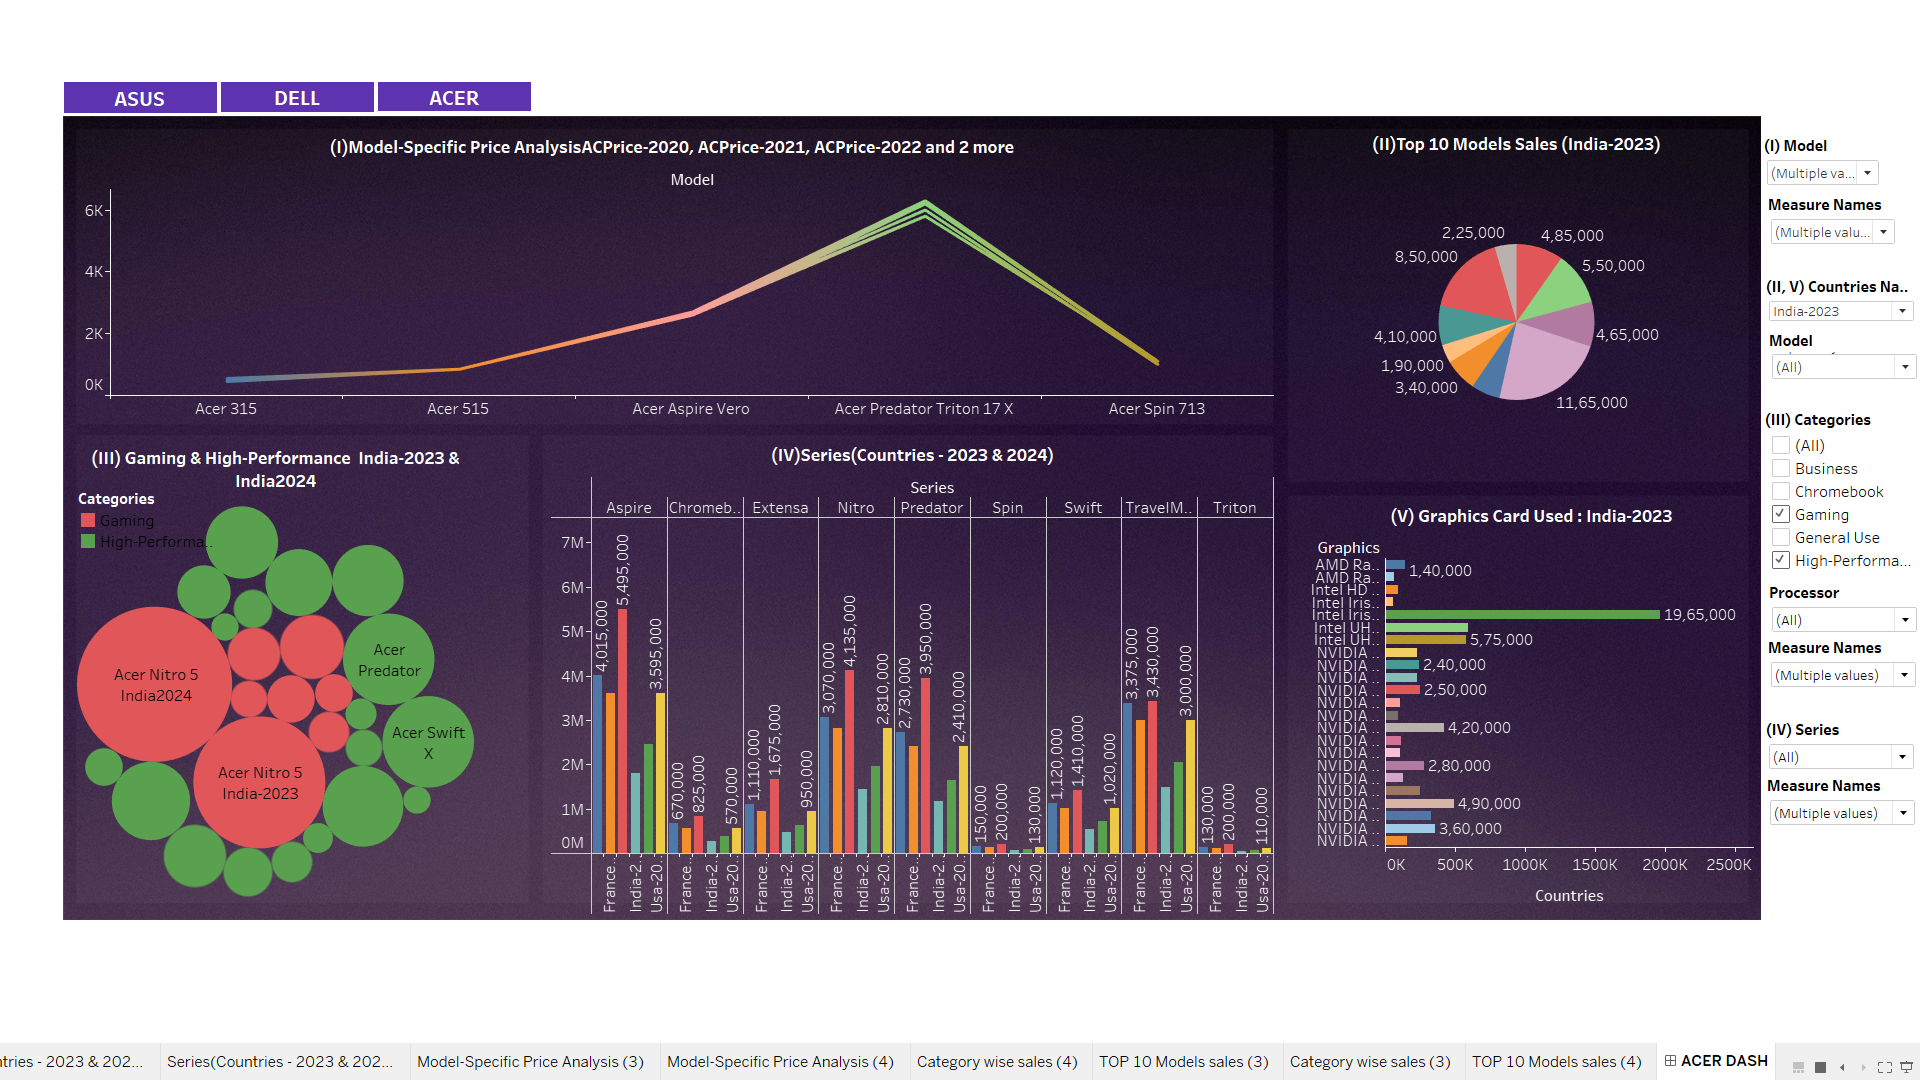

Layout of this report page (visuals, bound fields, positions):
{"tool":"tableau","page":{"name":"ACER DASH","canvas":[1800,900],"ordinal":0},"visuals":[{"type":"dashboard-object","box":[2.8,10,155.4,33]},{"type":"dashboard-object","box":[160.1,10,155.4,32]},{"type":"dashboard-object","box":[317.4,10,155.4,31]},{"type":"worksheet","title":"TOP 10 Models sales (3)","mark":"Pie","box":[1224,57,465,350]},{"type":"worksheet","title":"Model-Specific Price Analysis (3)","mark":"Line","cols":["Model"],"box":[10,60,1204,297]},{"type":"worksheet","title":"Series(Countries - 2023 & 2024) (3)","mark":"Automatic","cols":["Series"],"box":[491,368,723,476]},{"type":"worksheet","title":"Category wise sales (3)","mark":"Circle","box":[17,371,460,458]},{"type":"legend","title":"Category wise sales (3)","param":"[federated.07nuo3i0wjqhnw19nnik312g19xc].[none:Categories:nk]","box":[18,417,148,64]},{"type":"worksheet","title":"Graphics Card Used(Countries used) (3)","mark":"Automatic","rows":["Graphics"],"cols":["Calculation_1414974771247394816"],"box":[1249,429,445,406]}]}

Visuals, with their boxes on the page's 1800x900 design canvas (x1, y1, x2, y2). These are canvas units, not pixel positions in the 1920x1080 screenshot, which may show the page scaled, cropped or inside an application window:
dashboard-object: (left=3, top=10, right=158, bottom=43)
dashboard-object: (left=160, top=10, right=316, bottom=42)
dashboard-object: (left=317, top=10, right=473, bottom=41)
"TOP 10 Models sales (3)" worksheet (Pie marks): (left=1224, top=57, right=1689, bottom=407)
"Model-Specific Price Analysis (3)" worksheet (Line marks): (left=10, top=60, right=1214, bottom=357)
"Series(Countries - 2023 & 2024) (3)" worksheet: (left=491, top=368, right=1214, bottom=844)
"Category wise sales (3)" worksheet (Circle marks): (left=17, top=371, right=477, bottom=829)
"Category wise sales (3)" legend: (left=18, top=417, right=166, bottom=481)
"Graphics Card Used(Countries used) (3)" worksheet: (left=1249, top=429, right=1694, bottom=835)
